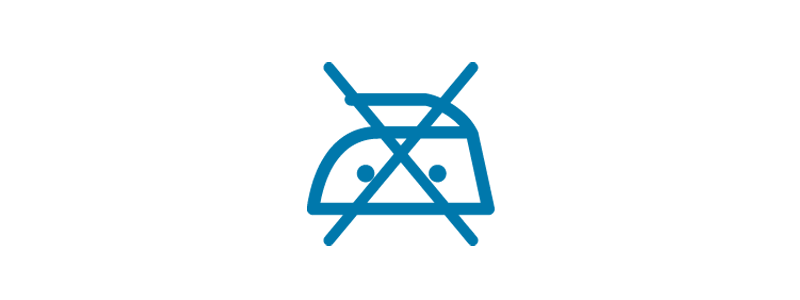do_not_iron: (309, 60, 492, 247)
